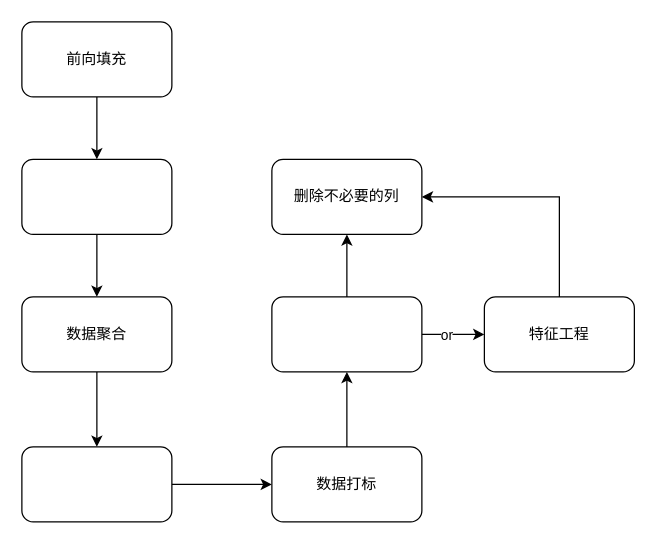
This 656x544 diagram has some shape labels left out. The centre of each missing label's shape, as x and y in pixels:
合并数据集: the point at 96,484
调整时间精度: the point at 96,196
转换布尔值数据: the point at 346,334
